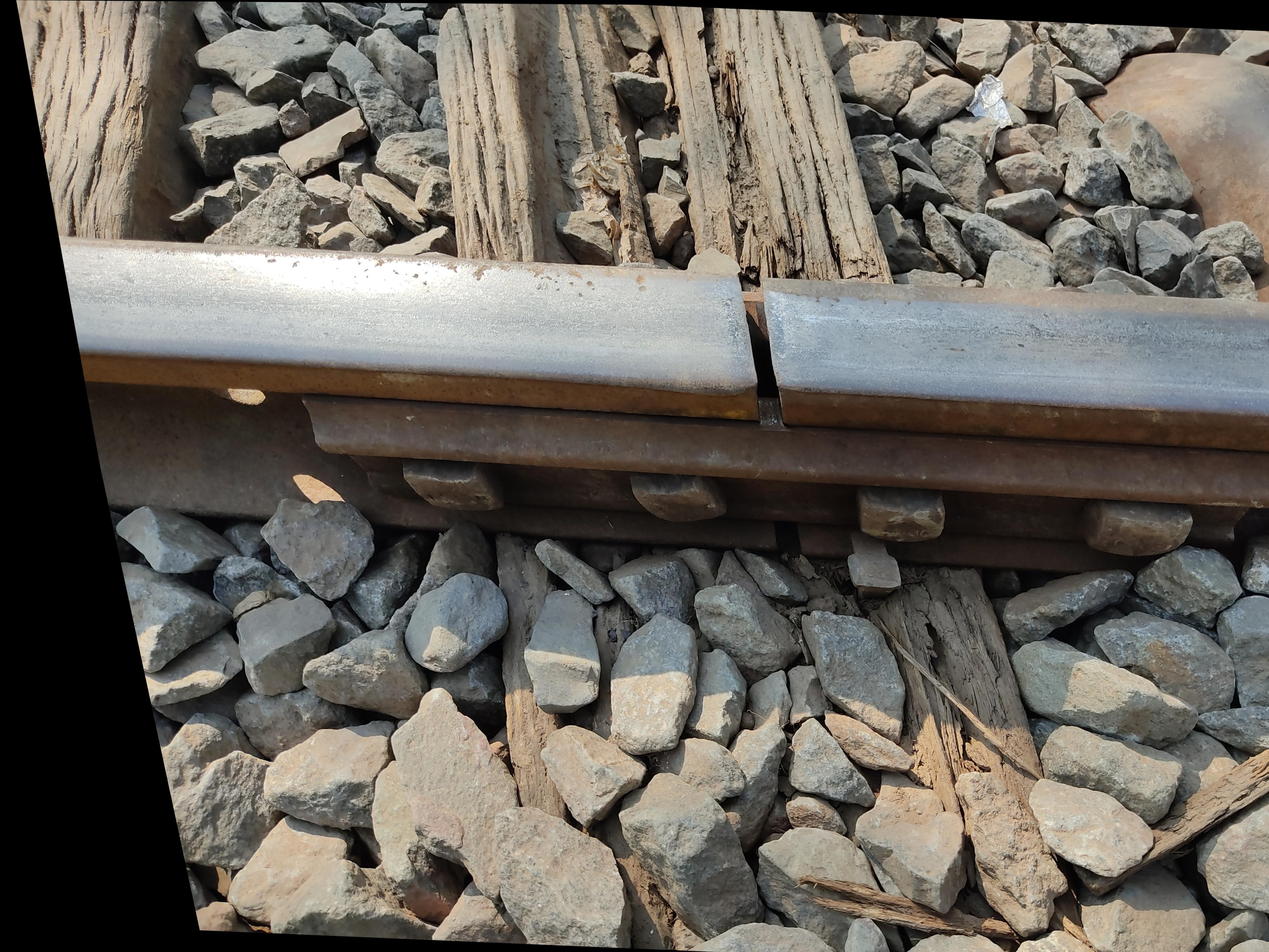person: (626, 219, 890, 431)
